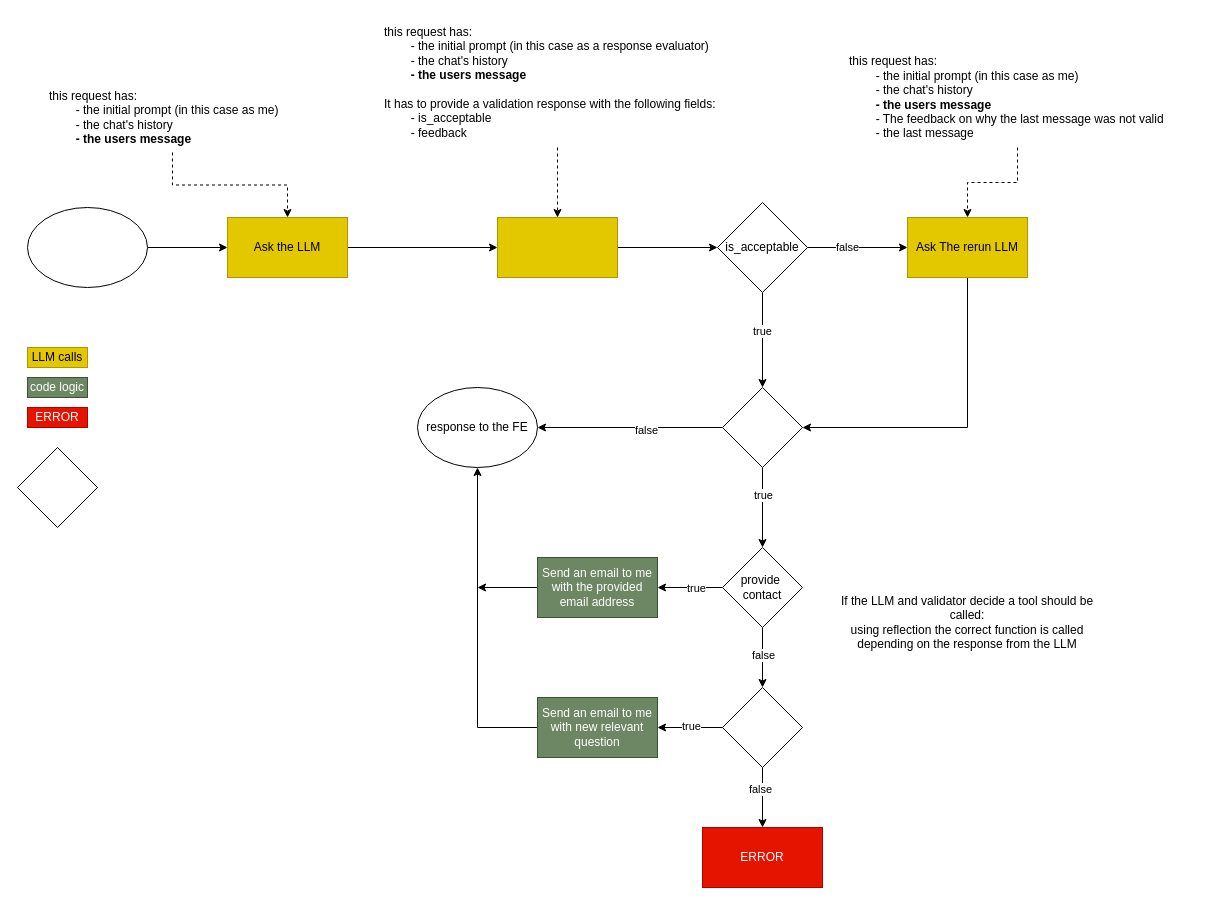
The diagram is 1205 pixels wide and 905 high, and some of its shapes have lost their labels. Each missing label, with the centre of its shape:
Ask the LLM that is a LLM Evaluator: (557,247)
decisions: (57,487)
FE request: (87,247)
new relveant question: (762,727)
tools: (762,427)
